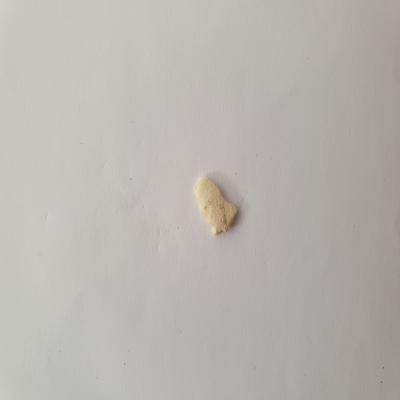plastic: (187, 168, 248, 241)
